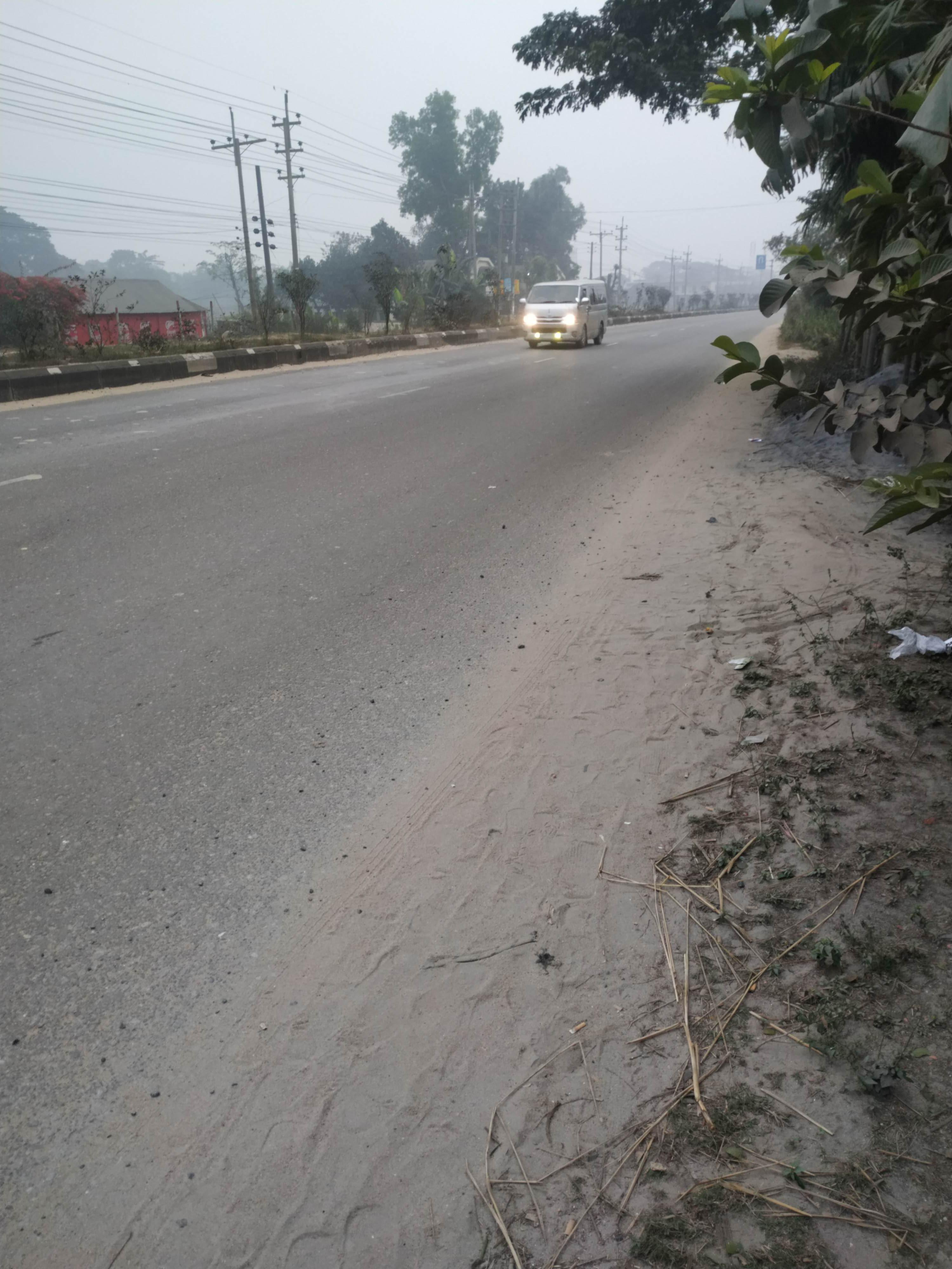Car: (501, 258, 643, 377)
